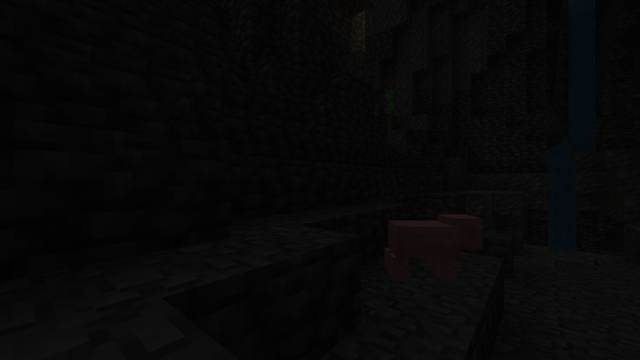cochons: (385, 216, 456, 289)
creepers: (385, 88, 397, 116)
